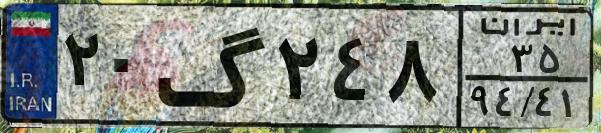0: (110, 28, 156, 98)
1: (560, 70, 590, 125)
2: (270, 28, 330, 110), (57, 26, 110, 100)
3: (508, 27, 537, 80)
4: (330, 28, 385, 110), (495, 70, 520, 125), (535, 70, 560, 125)
5: (537, 27, 568, 80)
8: (385, 28, 445, 110)
9: (470, 70, 495, 125)
گ: (156, 12, 270, 120)
